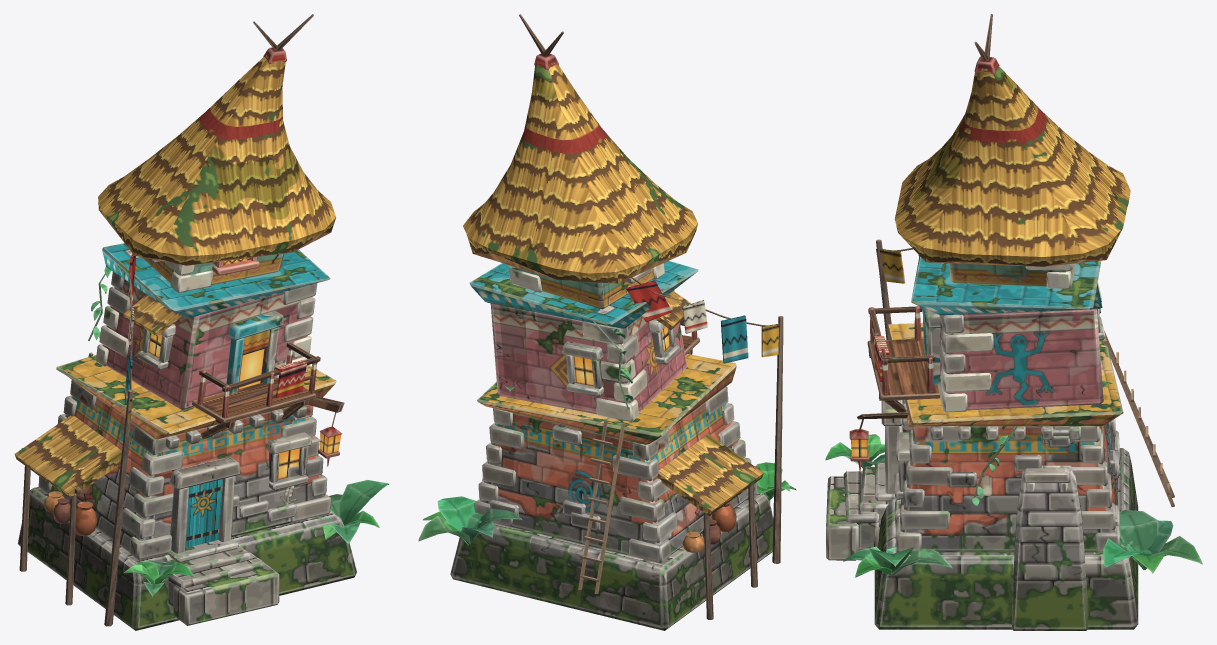
Rendered from house_tower.glb.
3 renders of one model, left to right at view 1: azimuth 30°, elevation 25°; view 2: azimuth 150°, elevation 25°; view 3: azimuth 270°, elevation 25°, orthographic. The views are drawn at different scales.
Parts seen in each view (by area): view 1: house_tower; view 2: house_tower; view 3: house_tower.
Part boxes in pixels (box(x1,y1,x2,y2)): house_tower: box(14, 14, 389, 630); house_tower: box(418, 14, 796, 630); house_tower: box(825, 14, 1202, 630).
Size of the model in its own units: 10.19 by 17.93 by 10.41.
Materials: 2 (2 with a texture image).
